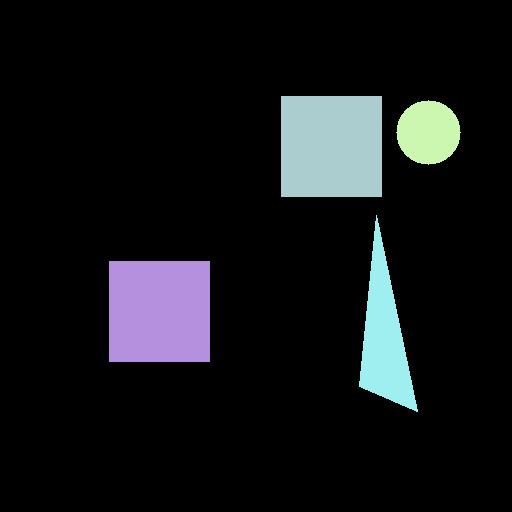circle: (396, 100, 460, 164)
square: (109, 261, 209, 361), (281, 96, 381, 196)
triangle: (359, 215, 417, 411)
